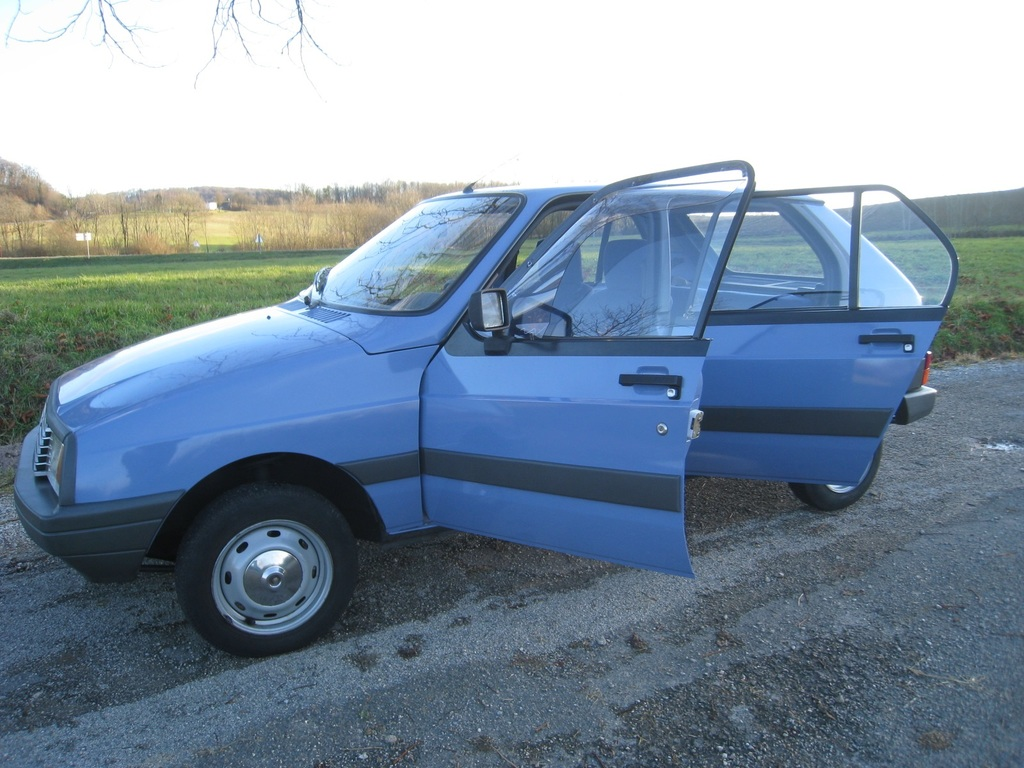cars: (8, 160, 969, 659)
